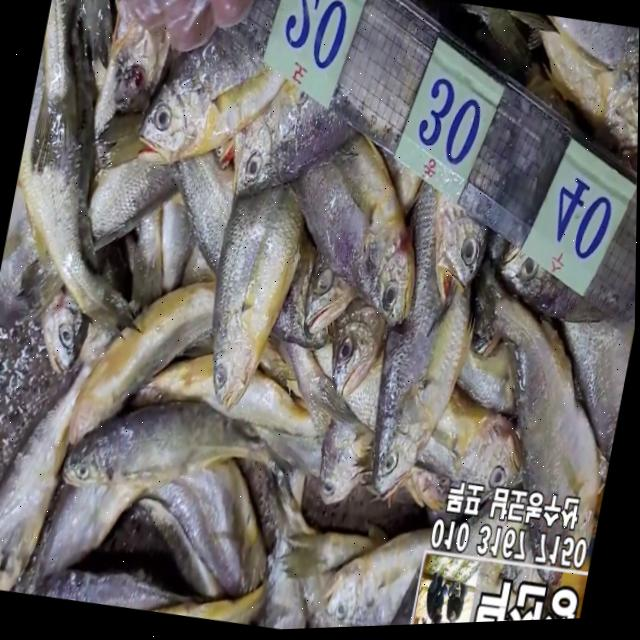Wet: (453, 310, 636, 602), (63, 387, 294, 523), (72, 257, 219, 466), (285, 137, 441, 332), (193, 172, 313, 421), (356, 290, 480, 516), (133, 27, 285, 182), (522, 16, 640, 168)
